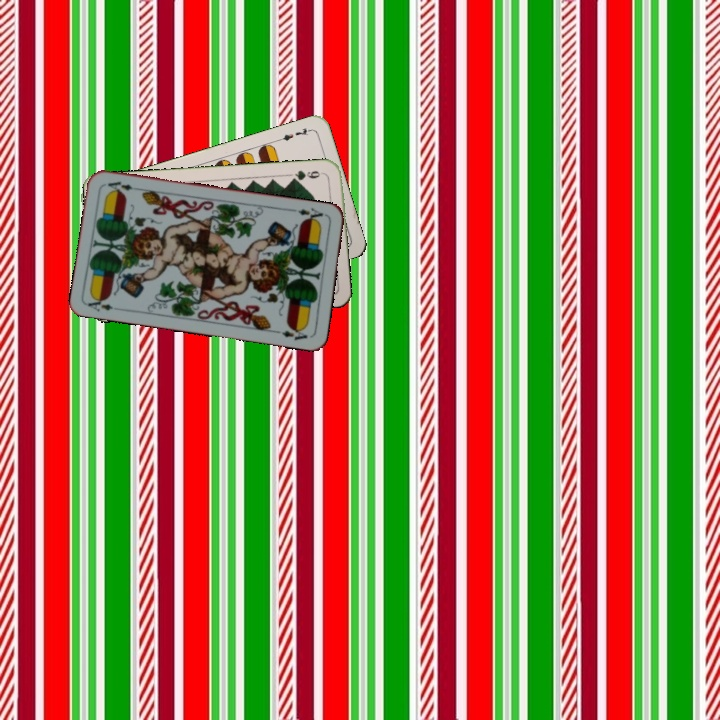E7: (274, 124, 314, 144)
EA: (84, 293, 124, 314), (288, 204, 325, 225)
G9: (287, 166, 327, 184)
